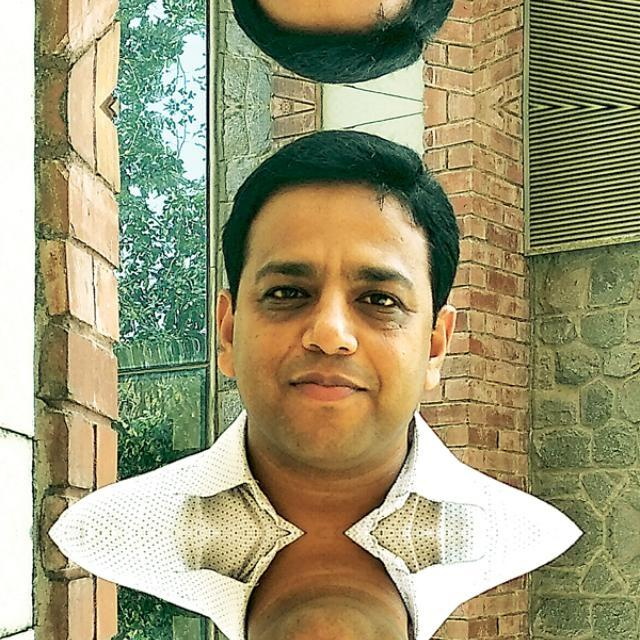person: (154, 110, 522, 524), (154, 0, 521, 102), (154, 541, 521, 640)
